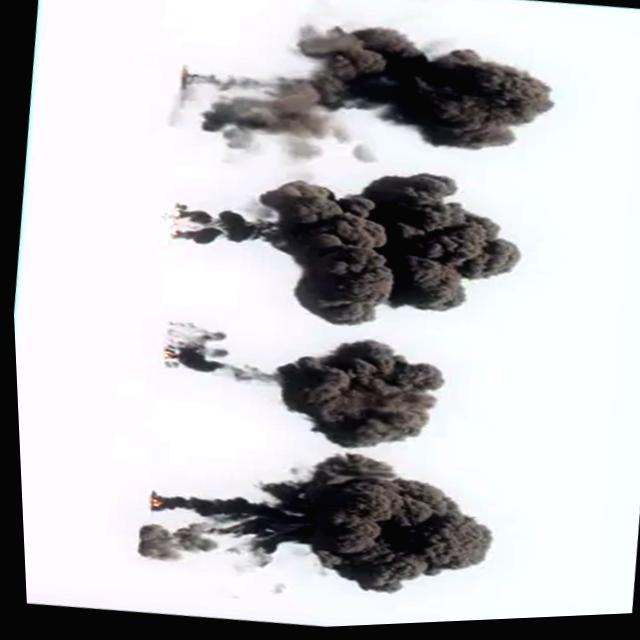Smoke: (144, 141, 528, 353), (166, 0, 560, 194), (124, 426, 499, 619), (145, 307, 510, 476)
